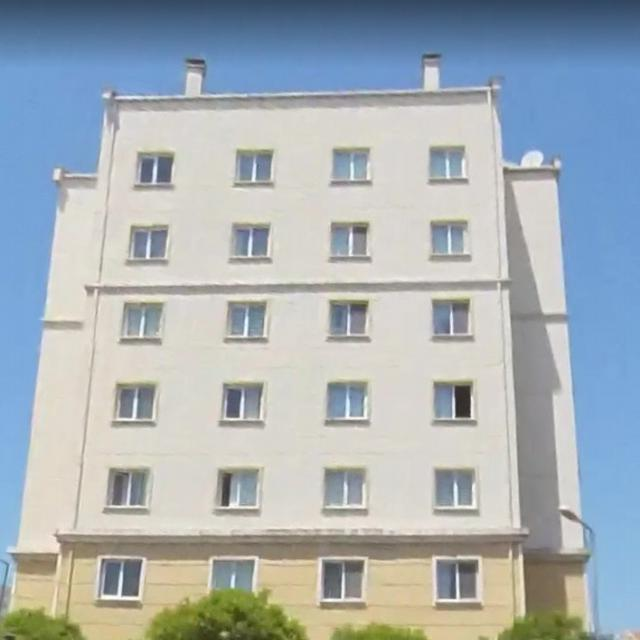Building: (7, 77, 594, 639)
